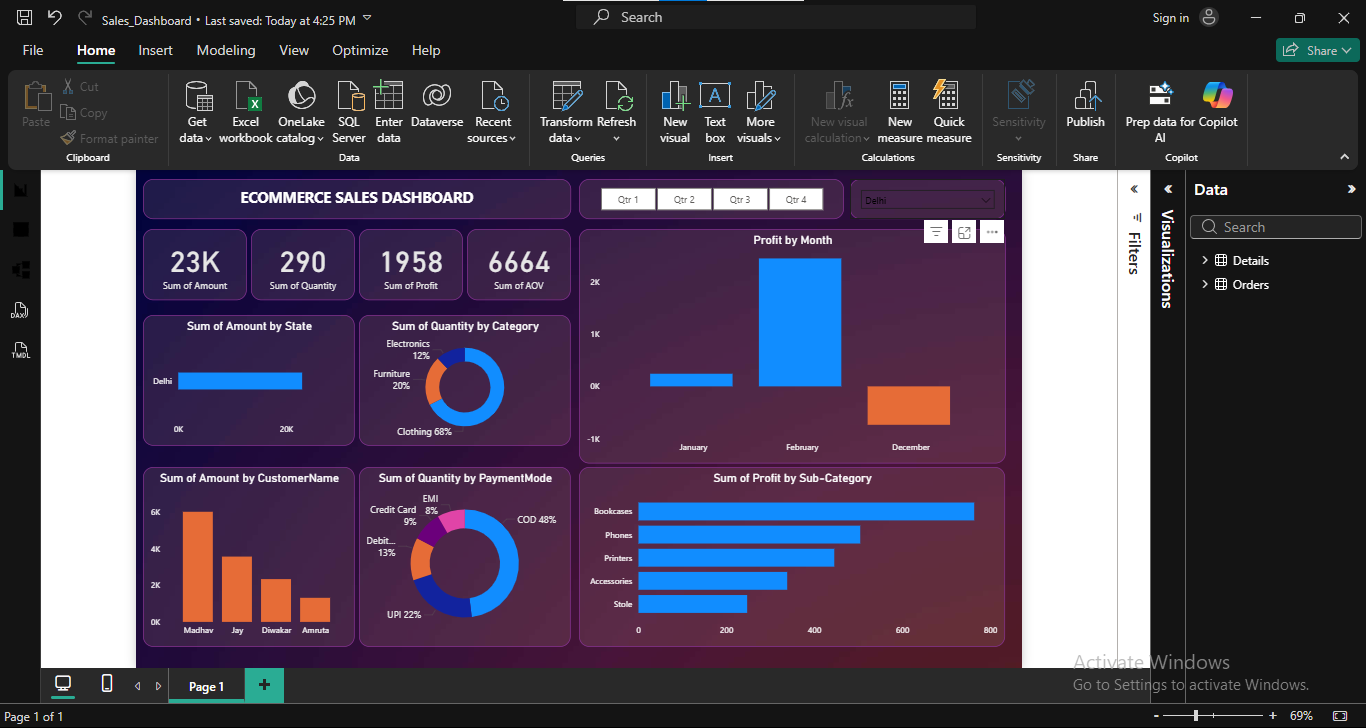

Layout of this report page (visuals, bound fields, positions):
{"tool":"powerbi","page":{"name":"Page 1","canvas":[1280,720],"ordinal":0},"visuals":[{"type":"textbox","box":[9.9,13.2,618.6,57.6],"z":0},{"type":"columnChart","title":"Profit by Month","fields":{"Category":["Orders.Order Date.Variation.Date Hierarchy.Month"],"Y":["Sum(Details.Profit)"]},"box":[640,85.6,617,338.9],"z":1000},{"type":"barChart","fields":{"Category":["Details.Sub-Category"],"Y":["Sum(Details.Profit)"]},"box":[640.5,429.4,615.9,260.2],"z":2000},{"type":"donutChart","fields":{"Category":["Details.Category"],"Y":["Sum(Details.Quantity)"]},"box":[322.5,208.9,306,189.2],"z":3000},{"type":"donutChart","fields":{"Y":["Sum(Details.Quantity)"],"Category":["Details.PaymentMode"]},"box":[322.5,429.4,306,259.9],"z":4000},{"type":"card","fields":{"Values":["Sum(Details.Amount)"]},"box":[10.1,85.3,150.4,102.7],"z":5000},{"type":"card","fields":{"Values":["Sum(Details.Quantity)"]},"box":[166.3,85.3,150.4,102.7],"z":6000},{"type":"card","fields":{"Values":["Sum(Details.Profit)"]},"box":[322.4,85.3,150.4,102.7],"z":7000},{"type":"card","fields":{"Values":["Sum(Details.AOV)"]},"box":[478.6,85.3,150.4,102.7],"z":8000},{"type":"barChart","fields":{"Category":["Orders.State"],"Y":["Sum(Details.Amount)"]},"box":[9.9,208.9,306,189.2],"z":9000},{"type":"columnChart","fields":{"Category":["Orders.CustomerName"],"Y":["Sum(Details.Amount)"]},"box":[9.9,429.4,306,259.9],"z":10000},{"type":"slicer","fields":{"Values":["Orders.Order Date.Variation.Date Hierarchy.Quarter"]},"box":[640,13.2,383.3,57.6],"z":11000},{"type":"slicer","fields":{"Values":["Orders.State"]},"box":[1031.6,13.2,225.4,57.6],"z":12000}]}

Visuals, with their boxes on the page's 1280x720 design canvas (x1, y1, x2, y2). These are canvas units, not pixel positions in the 1366x728 screenshot, which may show the page scaled, cropped or inside an application window:
textbox: x1=10, y1=13, x2=628, y2=71
"Profit by Month" columnChart: x1=640, y1=86, x2=1257, y2=424
barChart - Details.Sub-Category x Sum(Details.Profit): x1=640, y1=429, x2=1256, y2=690
donutChart - Details.Category x Sum(Details.Quantity): x1=322, y1=209, x2=628, y2=398
donutChart - Sum(Details.Quantity) x Details.PaymentMode: x1=322, y1=429, x2=628, y2=689
card - Sum(Details.Amount): x1=10, y1=85, x2=160, y2=188
card - Sum(Details.Quantity): x1=166, y1=85, x2=317, y2=188
card - Sum(Details.Profit): x1=322, y1=85, x2=473, y2=188
card - Sum(Details.AOV): x1=479, y1=85, x2=629, y2=188
barChart - Orders.State x Sum(Details.Amount): x1=10, y1=209, x2=316, y2=398
columnChart - Orders.CustomerName x Sum(Details.Amount): x1=10, y1=429, x2=316, y2=689
slicer - Orders.Order Date.Variation.Date Hierarchy.Quarter: x1=640, y1=13, x2=1023, y2=71
slicer - Orders.State: x1=1032, y1=13, x2=1257, y2=71
